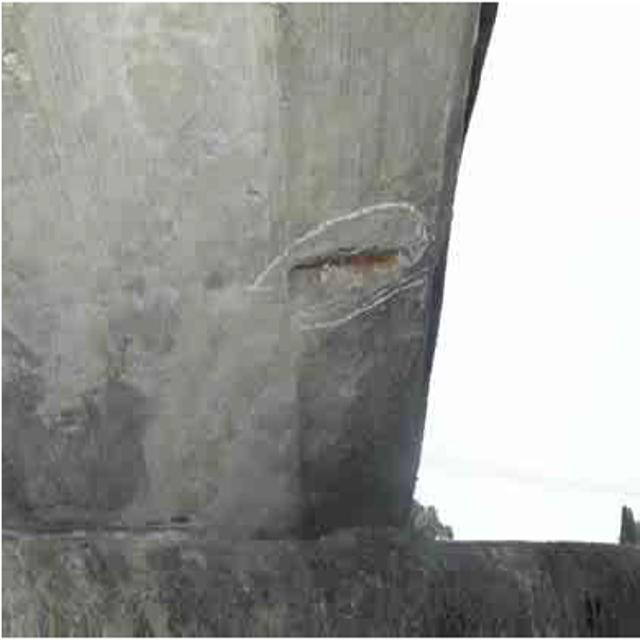spalling: (276, 204, 431, 324)
